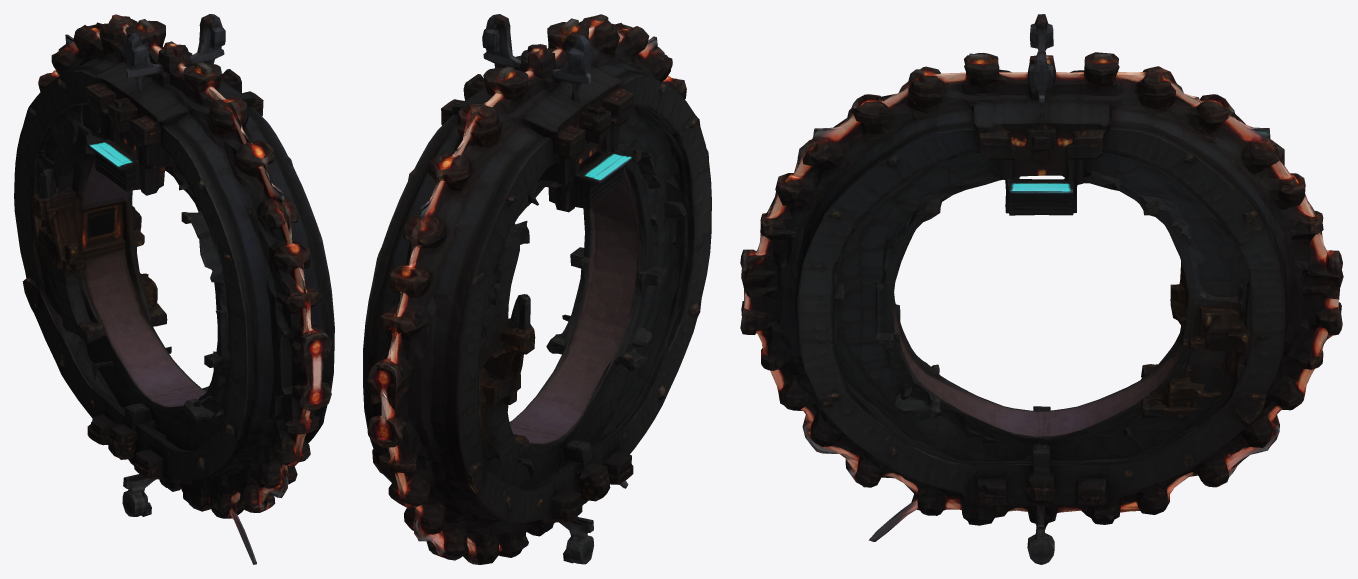
File: Copilot3D-b992e9ff-d4a4-4761-93f7-b7c082d747e4.glb
The picture shows the model from 3 angles, left to right: view 1: azimuth 30°, elevation 25°; view 2: azimuth 150°, elevation 25°; view 3: azimuth 270°, elevation 25°; orthographic projection. The views are drawn at different scales.
Visible parts, largest first — view 1: world; view 2: world; view 3: world.
Part boxes in pixels (x1,y1,x2,y2): world: (14, 14, 334, 564); world: (363, 14, 711, 564); world: (740, 14, 1343, 564).
Bounding box in the file's own units: 0.2865 × 0.9263 × 0.9949.
Materials: 1 (1 with a texture image).
